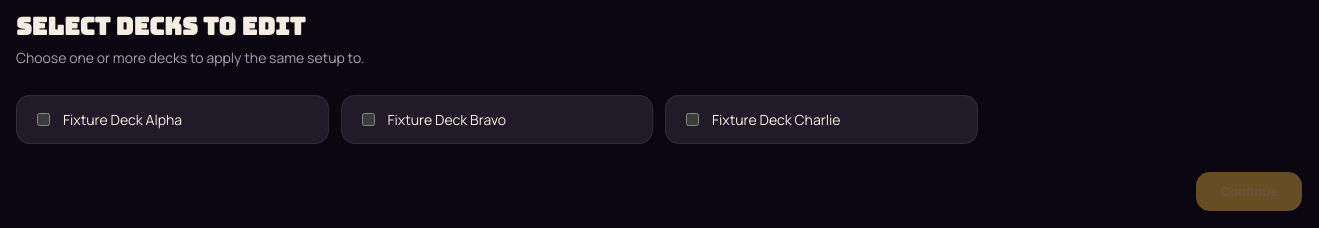
it: BatchDecksScreen › toggles a deck off when its checkbox is clicked twice
The image size is (1319, 228).
Click the checkbox labelled "Fixture Deck Alpha": (44, 120) [37, 113, 50, 126]
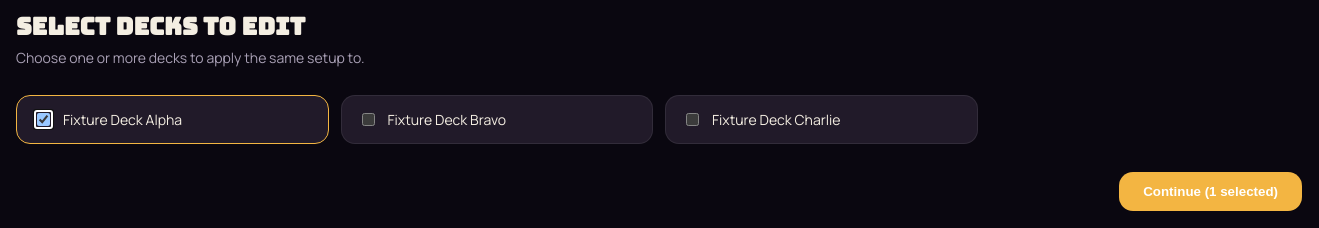
Click the checkbox labelled "Fixture Deck Alpha": (44, 120) [37, 113, 50, 126]
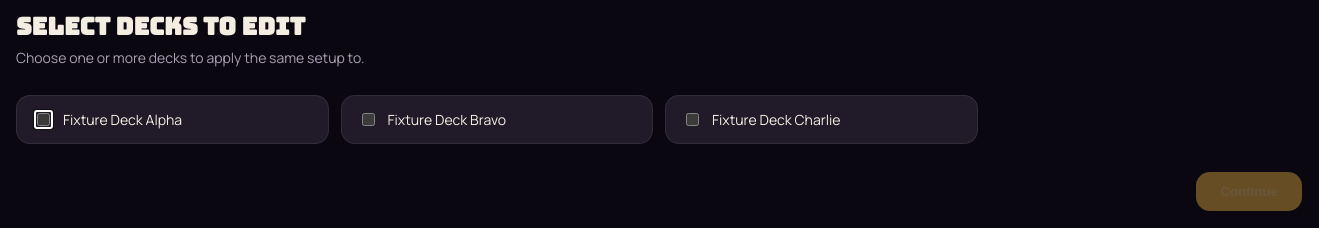
Now the checkbox labelled "Fixture Deck Alpha" is not checked, box [37, 113, 50, 126]
Now the button "Continue" is disabled, box [1196, 172, 1302, 211]
